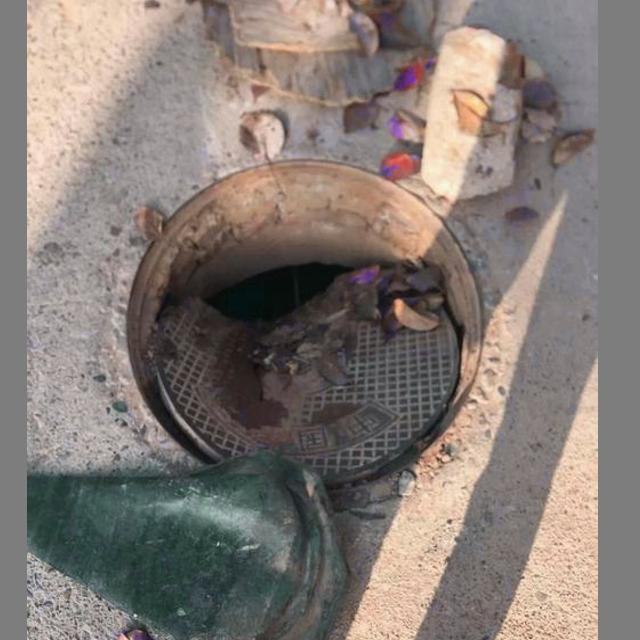broke: (101, 148, 503, 492)
